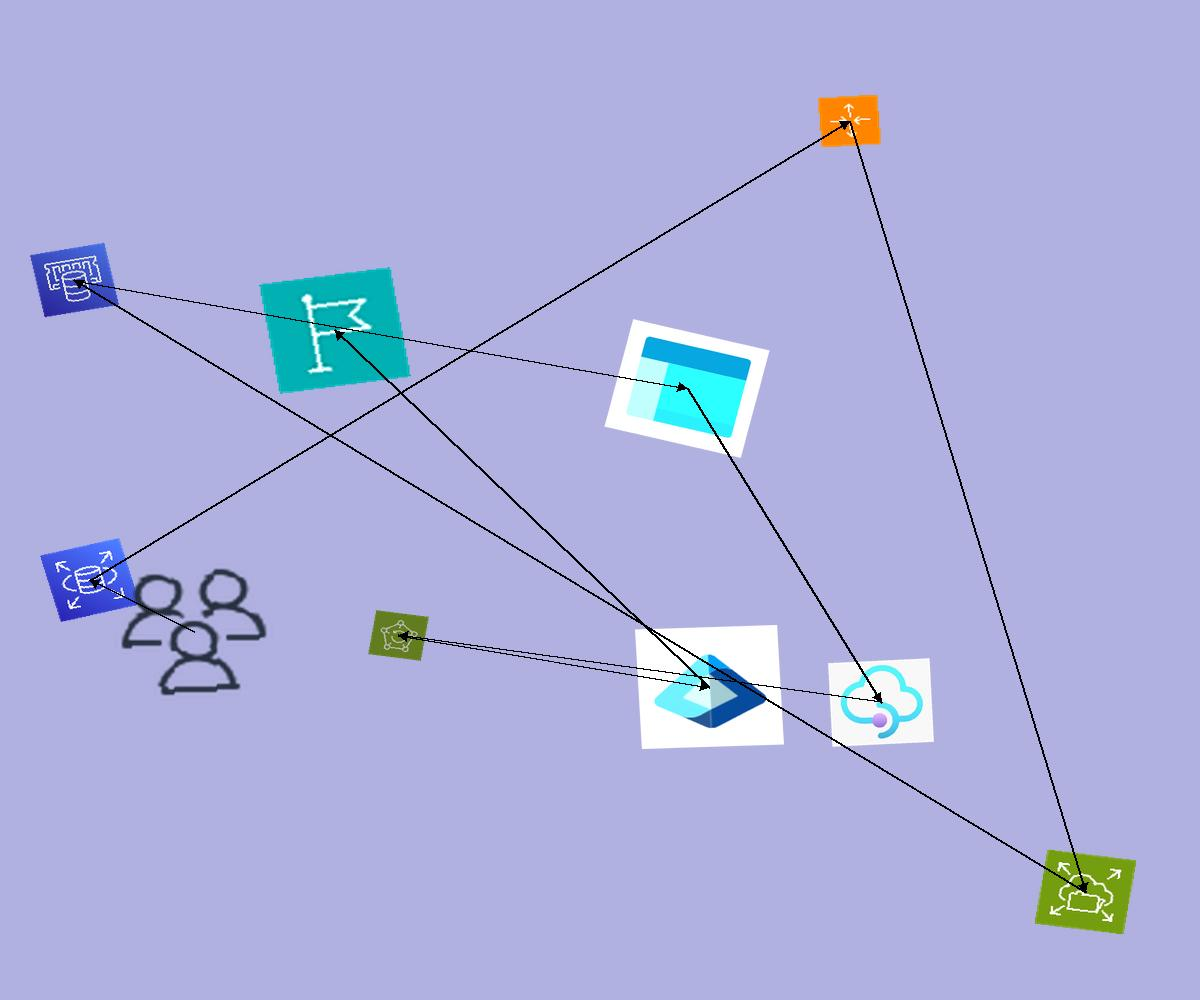AWS-Backup: (368, 610, 429, 661)
AWS-EFS: (1034, 849, 1137, 935)
AWS-ElastiCache: (29, 242, 120, 318)
AWS-RDS: (40, 538, 140, 622)
AWS-Region: (259, 267, 411, 394)
AWS-Res_Users: (109, 561, 279, 703)
AWS-Scaling-group: (817, 94, 882, 148)
Azure_api_gateway: (828, 658, 934, 747)
Azure_management-portal: (604, 319, 770, 458)
Azure_microsoft_entra: (635, 625, 784, 749)
